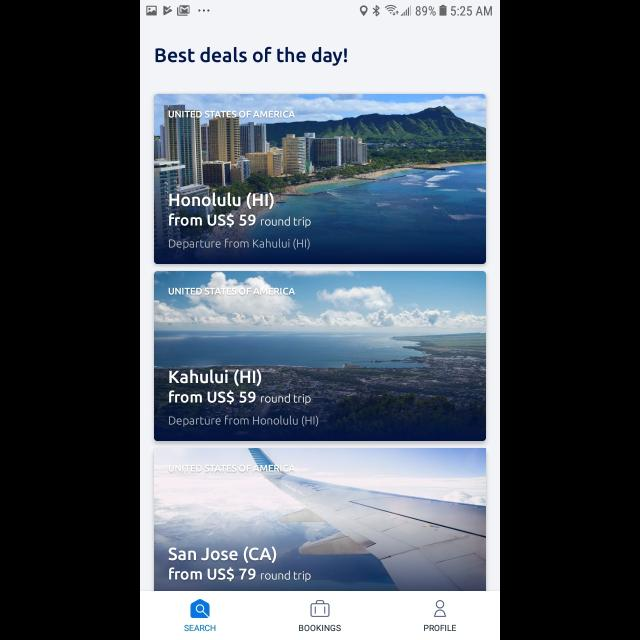icon: (190, 598, 210, 618), (310, 600, 330, 616), (434, 599, 446, 617)
image: (154, 95, 486, 265), (154, 271, 486, 441), (154, 448, 486, 592)
text: (168, 546, 312, 582), (169, 192, 311, 228), (169, 370, 311, 404), (156, 48, 348, 66), (169, 416, 319, 428), (170, 238, 310, 250), (168, 110, 296, 118), (168, 288, 296, 296), (168, 464, 296, 472), (299, 624, 341, 632), (184, 624, 216, 632), (424, 624, 456, 632)
uppertaskbar: (140, 1, 500, 18)
